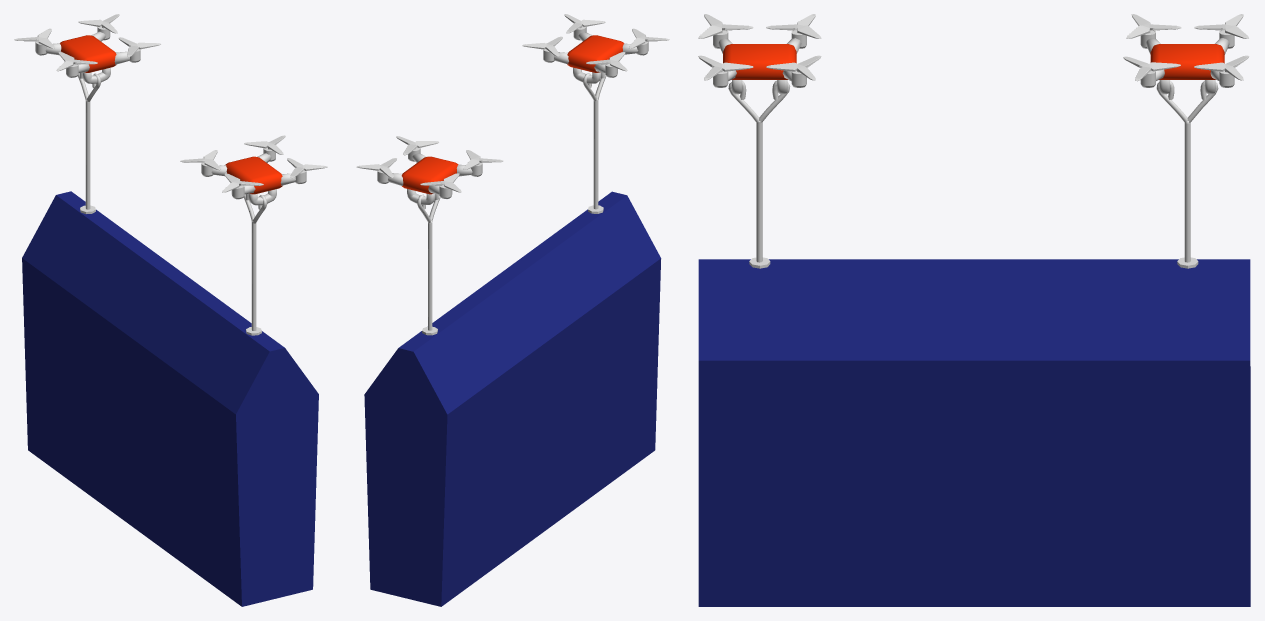
File: DronV3.fbx
3 views of the same model, side by side, from view 1: azimuth 30°, elevation 25°; view 2: azimuth 150°, elevation 25°; view 3: azimuth 270°, elevation 25° (orthographic). The views are drawn at different scales.
Visible parts, largest first — view 1: Cube.030, Cube.015, Cube.023, Cylinder.018, Cylinder.019; view 2: Cube.030, Cube.015, Cube.023, Cylinder.018, Cylinder.019; view 3: Cube.030, Cube.023, Cube.015, Cylinder.018, Cylinder.019.
Boxes of the visible parts, box(x1,y1,x2,y2) form: Cube.030: box(22, 191, 318, 606); Cube.015: box(225, 156, 282, 194); Cube.023: box(60, 35, 116, 72); Cylinder.018: box(251, 220, 256, 330); Cylinder.019: box(85, 99, 90, 209); Cube.030: box(364, 191, 661, 606); Cube.015: box(567, 35, 624, 72); Cube.023: box(401, 156, 458, 194); Cylinder.018: box(593, 99, 598, 209); Cylinder.019: box(428, 220, 432, 330); Cube.030: box(698, 259, 1250, 606); Cube.023: box(1150, 44, 1224, 79); Cube.015: box(723, 44, 796, 79); Cylinder.018: box(756, 121, 762, 262); Cylinder.019: box(1184, 121, 1190, 262).
Bounding box in the file's own units: 740 × 2784 × 2582.
